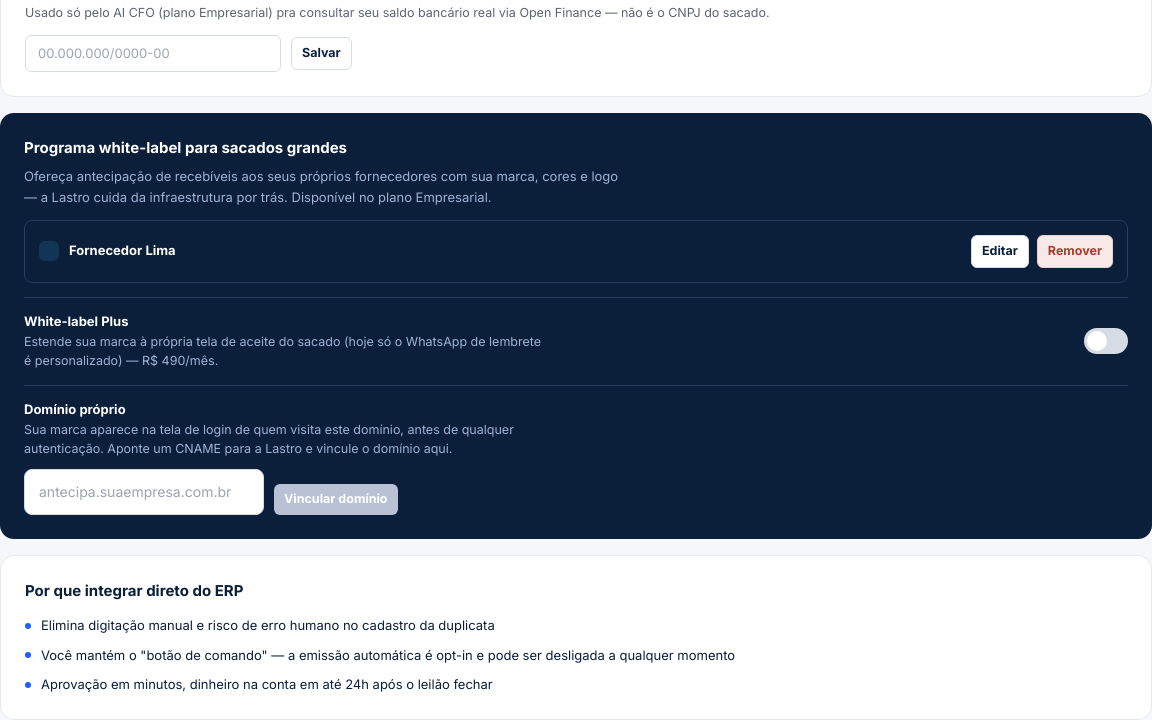
Test case: ErpPage — domínio próprio do white-label › sem domínio vinculado, oferece o formulário — e só habilita o botão quando há o que enviar
This screenshot has width=1152, height=720.
(page scrolled)
Expected: the text "Domínio próprio" is shown, x1=24 y1=400 x2=126 y2=416
Expected: the button "Vincular domínio" is disabled, x1=274 y1=484 x2=398 y2=515
In the field named "Domínio próprio": point(144, 492) x1=24 y1=468 x2=264 y2=514, type "antecipa.fornecedorlima.com.br"
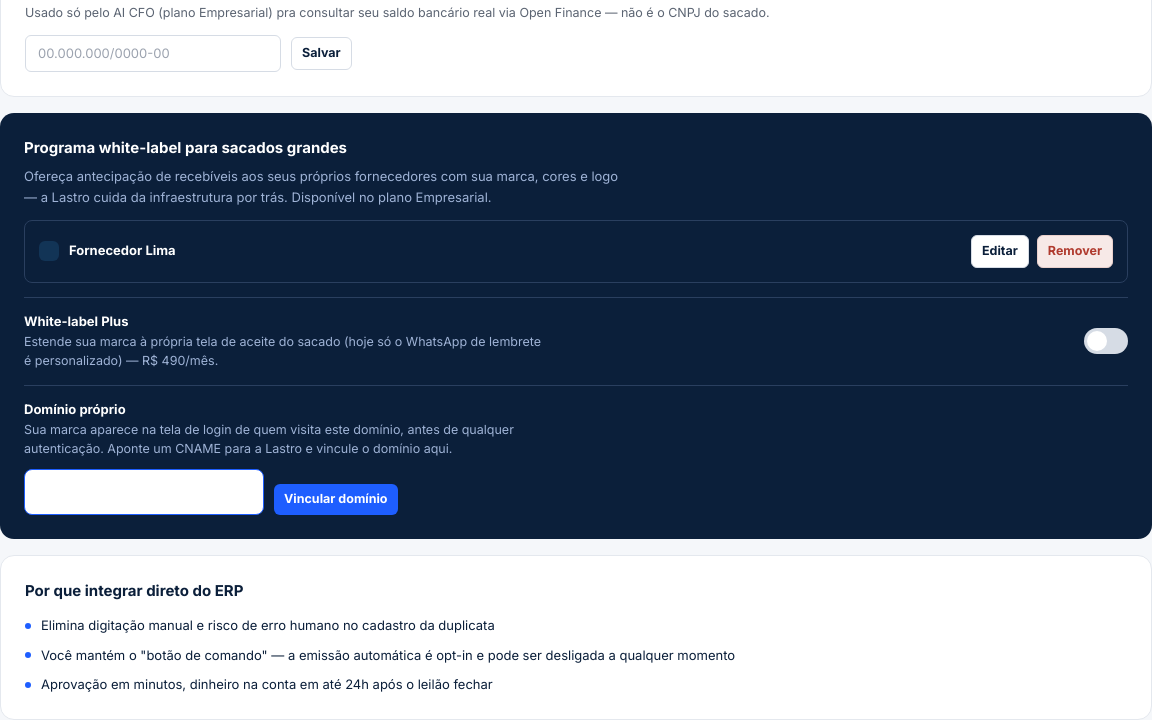
Now the button "Vincular domínio" is enabled, box x1=274 y1=484 x2=398 y2=515
